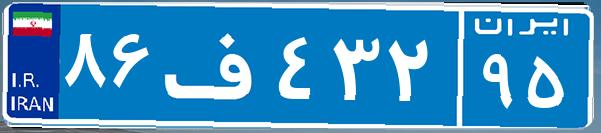2: (385, 28, 445, 110)
3: (330, 28, 385, 110)
4: (273, 28, 330, 110)
5: (525, 38, 570, 115)
6: (110, 28, 158, 105)
8: (57, 26, 110, 107)
9: (475, 38, 525, 113)
ف: (158, 15, 273, 115)
